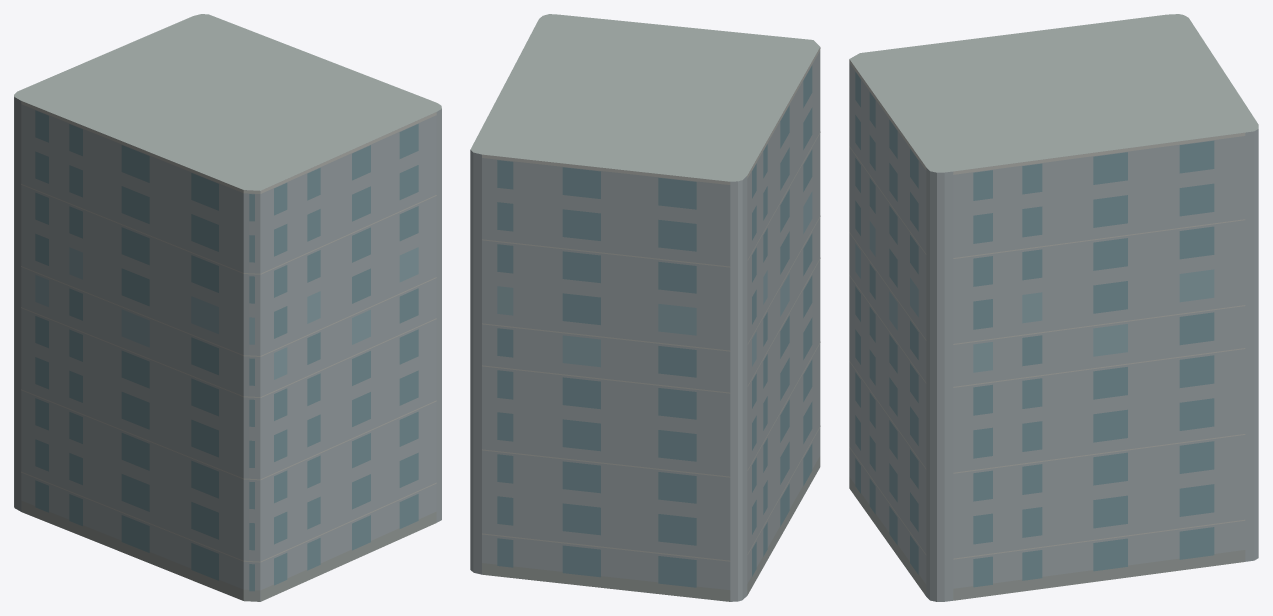
Rendered from survey-upis-32777283.glb.
3 views of the same model, side by side, from view 1: azimuth 30°, elevation 25°; view 2: azimuth 150°, elevation 25°; view 3: azimuth 270°, elevation 25° (orthographic). The views are drawn at different scales.
Visible parts, largest first — view 1: survey-upis-32777283.tmp; view 2: survey-upis-32777283.tmp; view 3: survey-upis-32777283.tmp.
Boxes of the visible parts, left/top/right/bottom form: survey-upis-32777283.tmp: left=14, top=14, right=441, bottom=601; survey-upis-32777283.tmp: left=470, top=14, right=820, bottom=601; survey-upis-32777283.tmp: left=849, top=14, right=1258, bottom=601.
Bounding box in the file's own units: 24.18 × 30.5 × 26.38.
